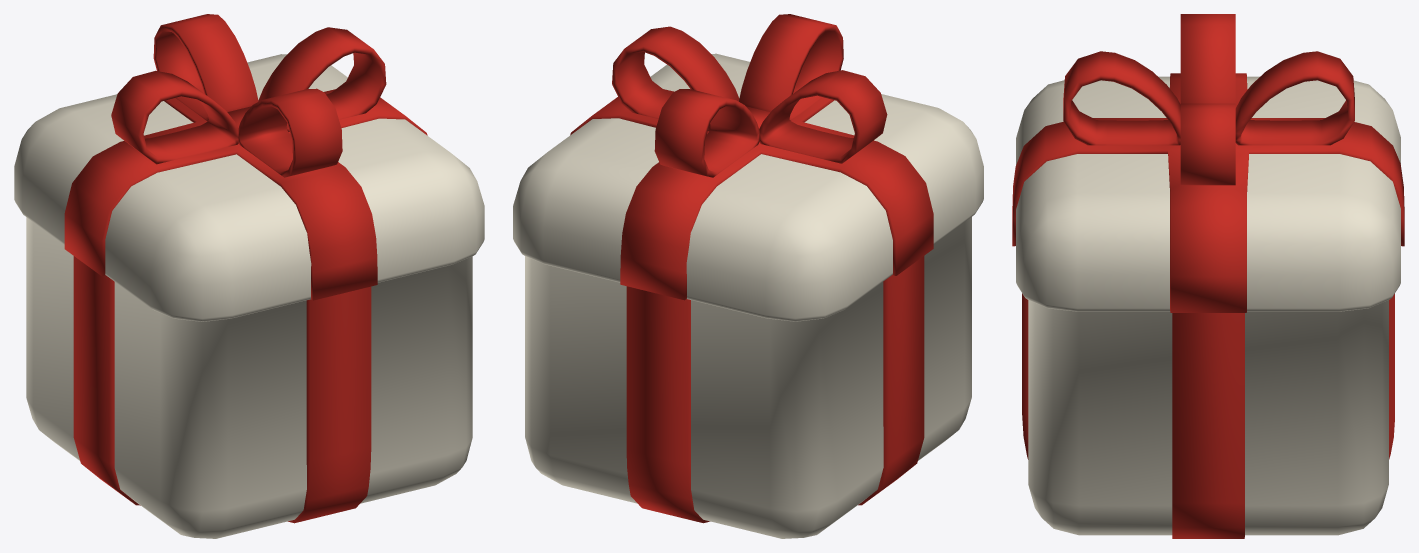
Rendered from regalo2_uvs.fbx.
3 views of the same model, side by side, from view 1: azimuth 30°, elevation 25°; view 2: azimuth 150°, elevation 25°; view 3: azimuth 270°, elevation 25° (orthographic). The views are drawn at different scales.
Visible parts, largest first — view 1: regalo.003; view 2: regalo.003; view 3: regalo.003.
Boxes of the visible parts, <box> form: regalo.003: <box>14,14,484,538</box>; regalo.003: <box>513,14,983,538</box>; regalo.003: <box>1012,14,1404,538</box>.
Bounding box in the file's own units: 63.85 × 74.96 × 63.82.
